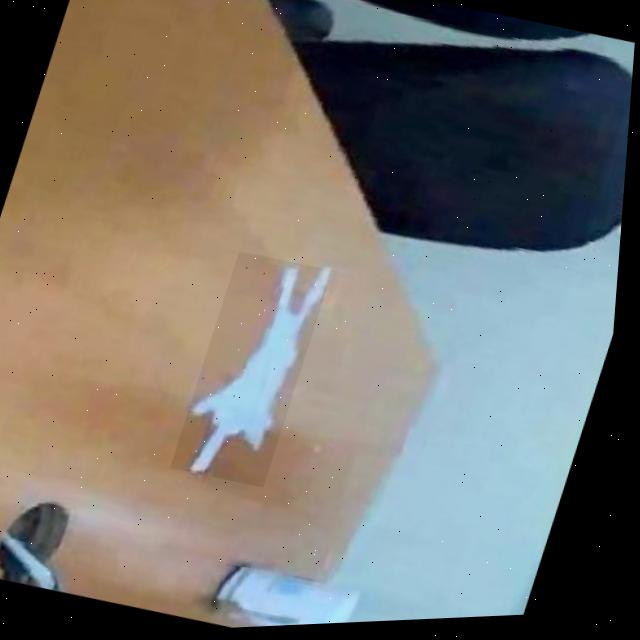spillage: (197, 267, 337, 474)
